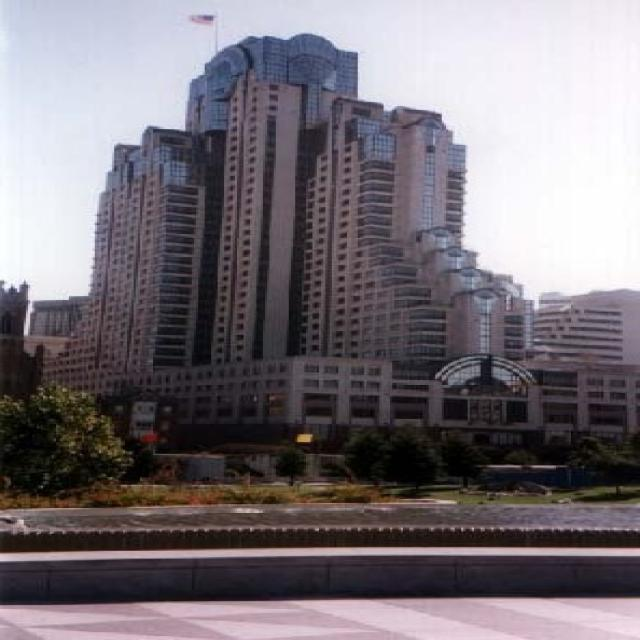building: (36, 31, 640, 482)
